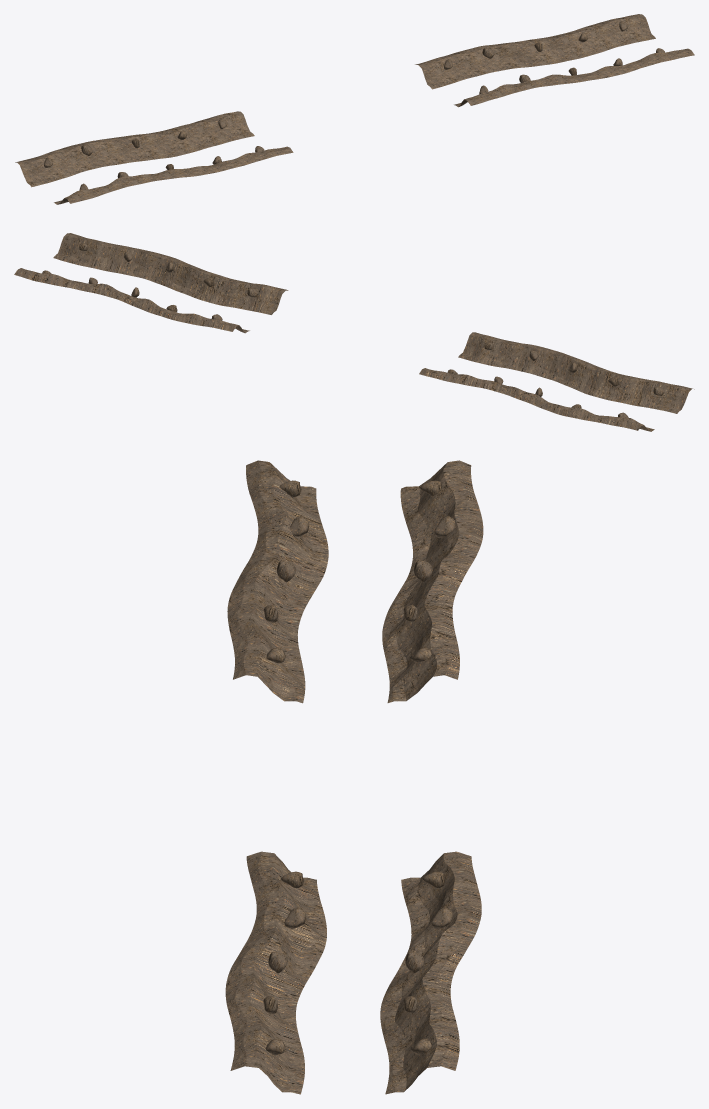
File: OwnerCityCliffsV19.glb
3 views of the same model, one above another, from view 1: azimuth 30°, elevation 25°; view 2: azimuth 150°, elevation 25°; view 3: azimuth 270°, elevation 25° (orthographic). The views are drawn at different scales.
Parts seen in each view (by area): view 1: Eldoria authored riverside geology / section 0 side 1, Eldoria authored riverside geology / section 1 side 1, Eldoria authored riverside geology / section 1 side -1, Eldoria authored riverside geology / section 0 side -1; view 2: Eldoria authored riverside geology / section 0 side -1, Eldoria authored riverside geology / section 1 side -1, Eldoria authored riverside geology / section 1 side 1, Eldoria authored riverside geology / section 0 side 1; view 3: Eldoria authored riverside geology / section 0 side -1, Eldoria authored riverside geology / section 1 side -1, Eldoria authored riverside geology / section 0 side 1, Eldoria authored riverside geology / section 1 side 1.
Boxes of the visible parts, x1,y1,x2,y2 form: Eldoria authored riverside geology / section 0 side 1: [15, 111, 254, 187]; Eldoria authored riverside geology / section 1 side 1: [415, 14, 655, 89]; Eldoria authored riverside geology / section 1 side -1: [454, 48, 694, 107]; Eldoria authored riverside geology / section 0 side -1: [54, 146, 293, 204]; Eldoria authored riverside geology / section 0 side -1: [458, 332, 694, 413]; Eldoria authored riverside geology / section 1 side -1: [53, 233, 288, 314]; Eldoria authored riverside geology / section 1 side 1: [14, 268, 249, 333]; Eldoria authored riverside geology / section 0 side 1: [419, 368, 654, 431]; Eldoria authored riverside geology / section 0 side -1: [227, 460, 328, 703]; Eldoria authored riverside geology / section 1 side -1: [225, 851, 326, 1094]; Eldoria authored riverside geology / section 0 side 1: [382, 460, 483, 702]; Eldoria authored riverside geology / section 1 side 1: [380, 851, 481, 1094].
Bounding box in the file's own units: 158 × 4.42 × 28.41.
Materials: 1 (1 with a texture image).
